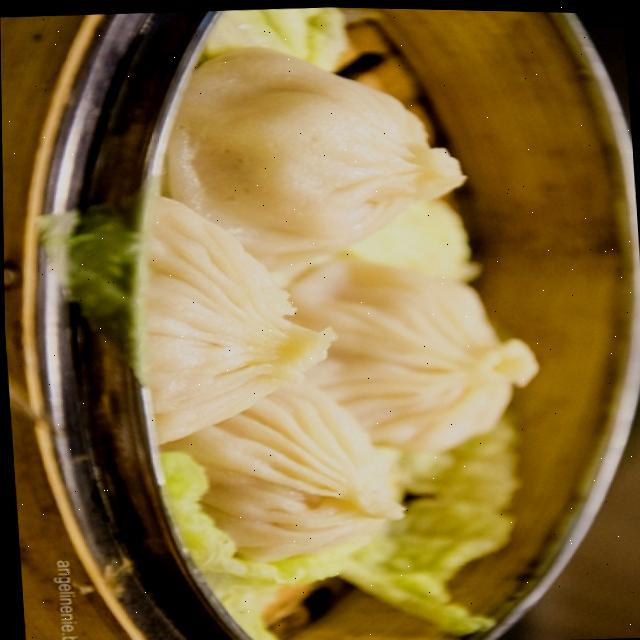带馅早点: (32, 14, 640, 640)
